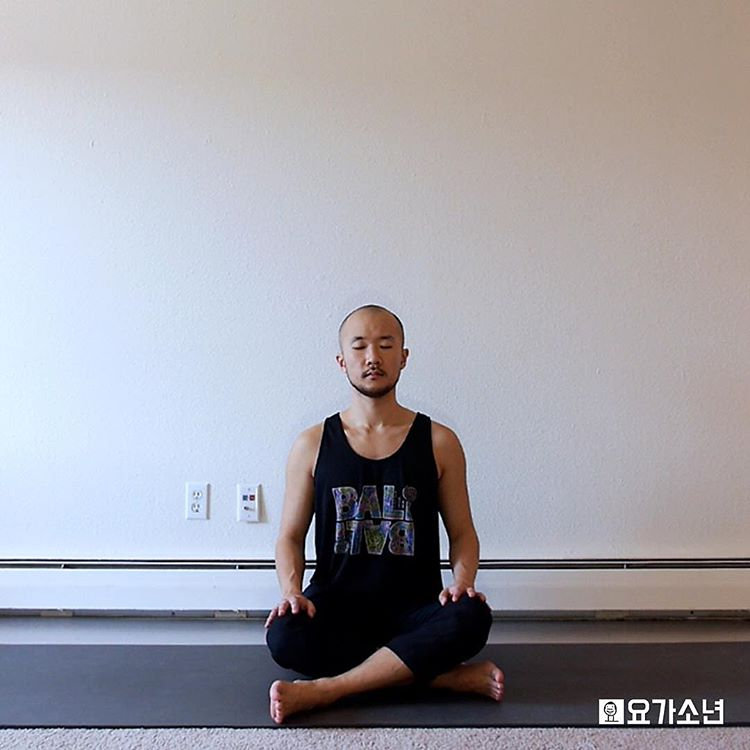hand: (263, 584, 323, 627), (433, 579, 488, 612)
